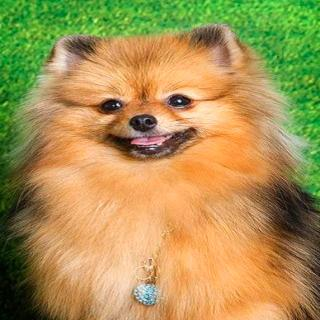dog: (27, 23, 276, 188)
nose: (129, 110, 157, 134)
